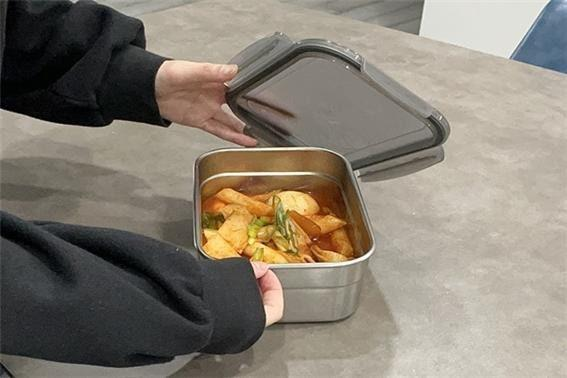Lunch Box: (194, 32, 449, 322)
